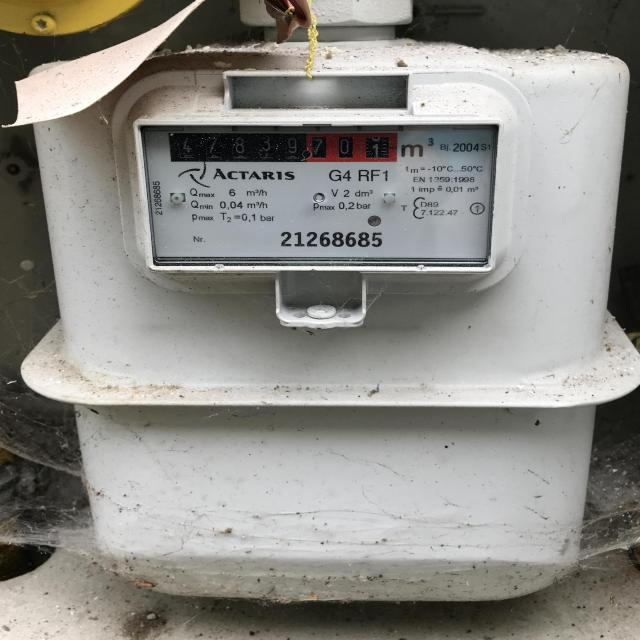gaz_meter: (133, 118, 494, 271)
indication: (169, 129, 400, 166)
